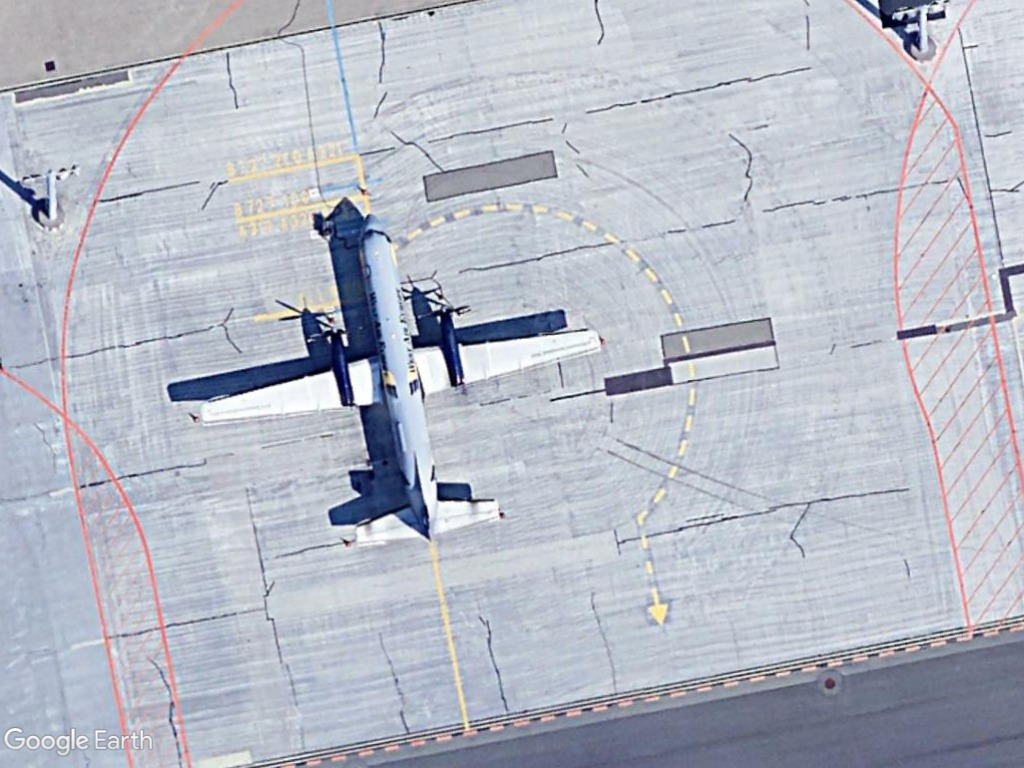propeller: (187, 205, 610, 553)
